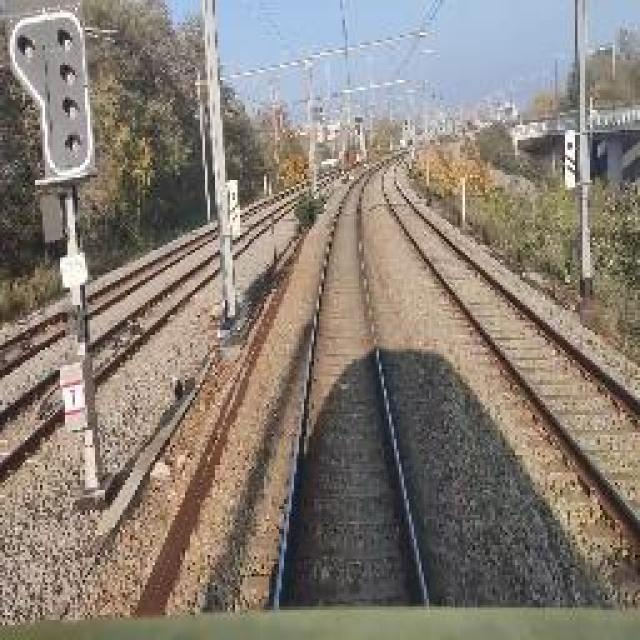rail: (251, 153, 452, 610)
